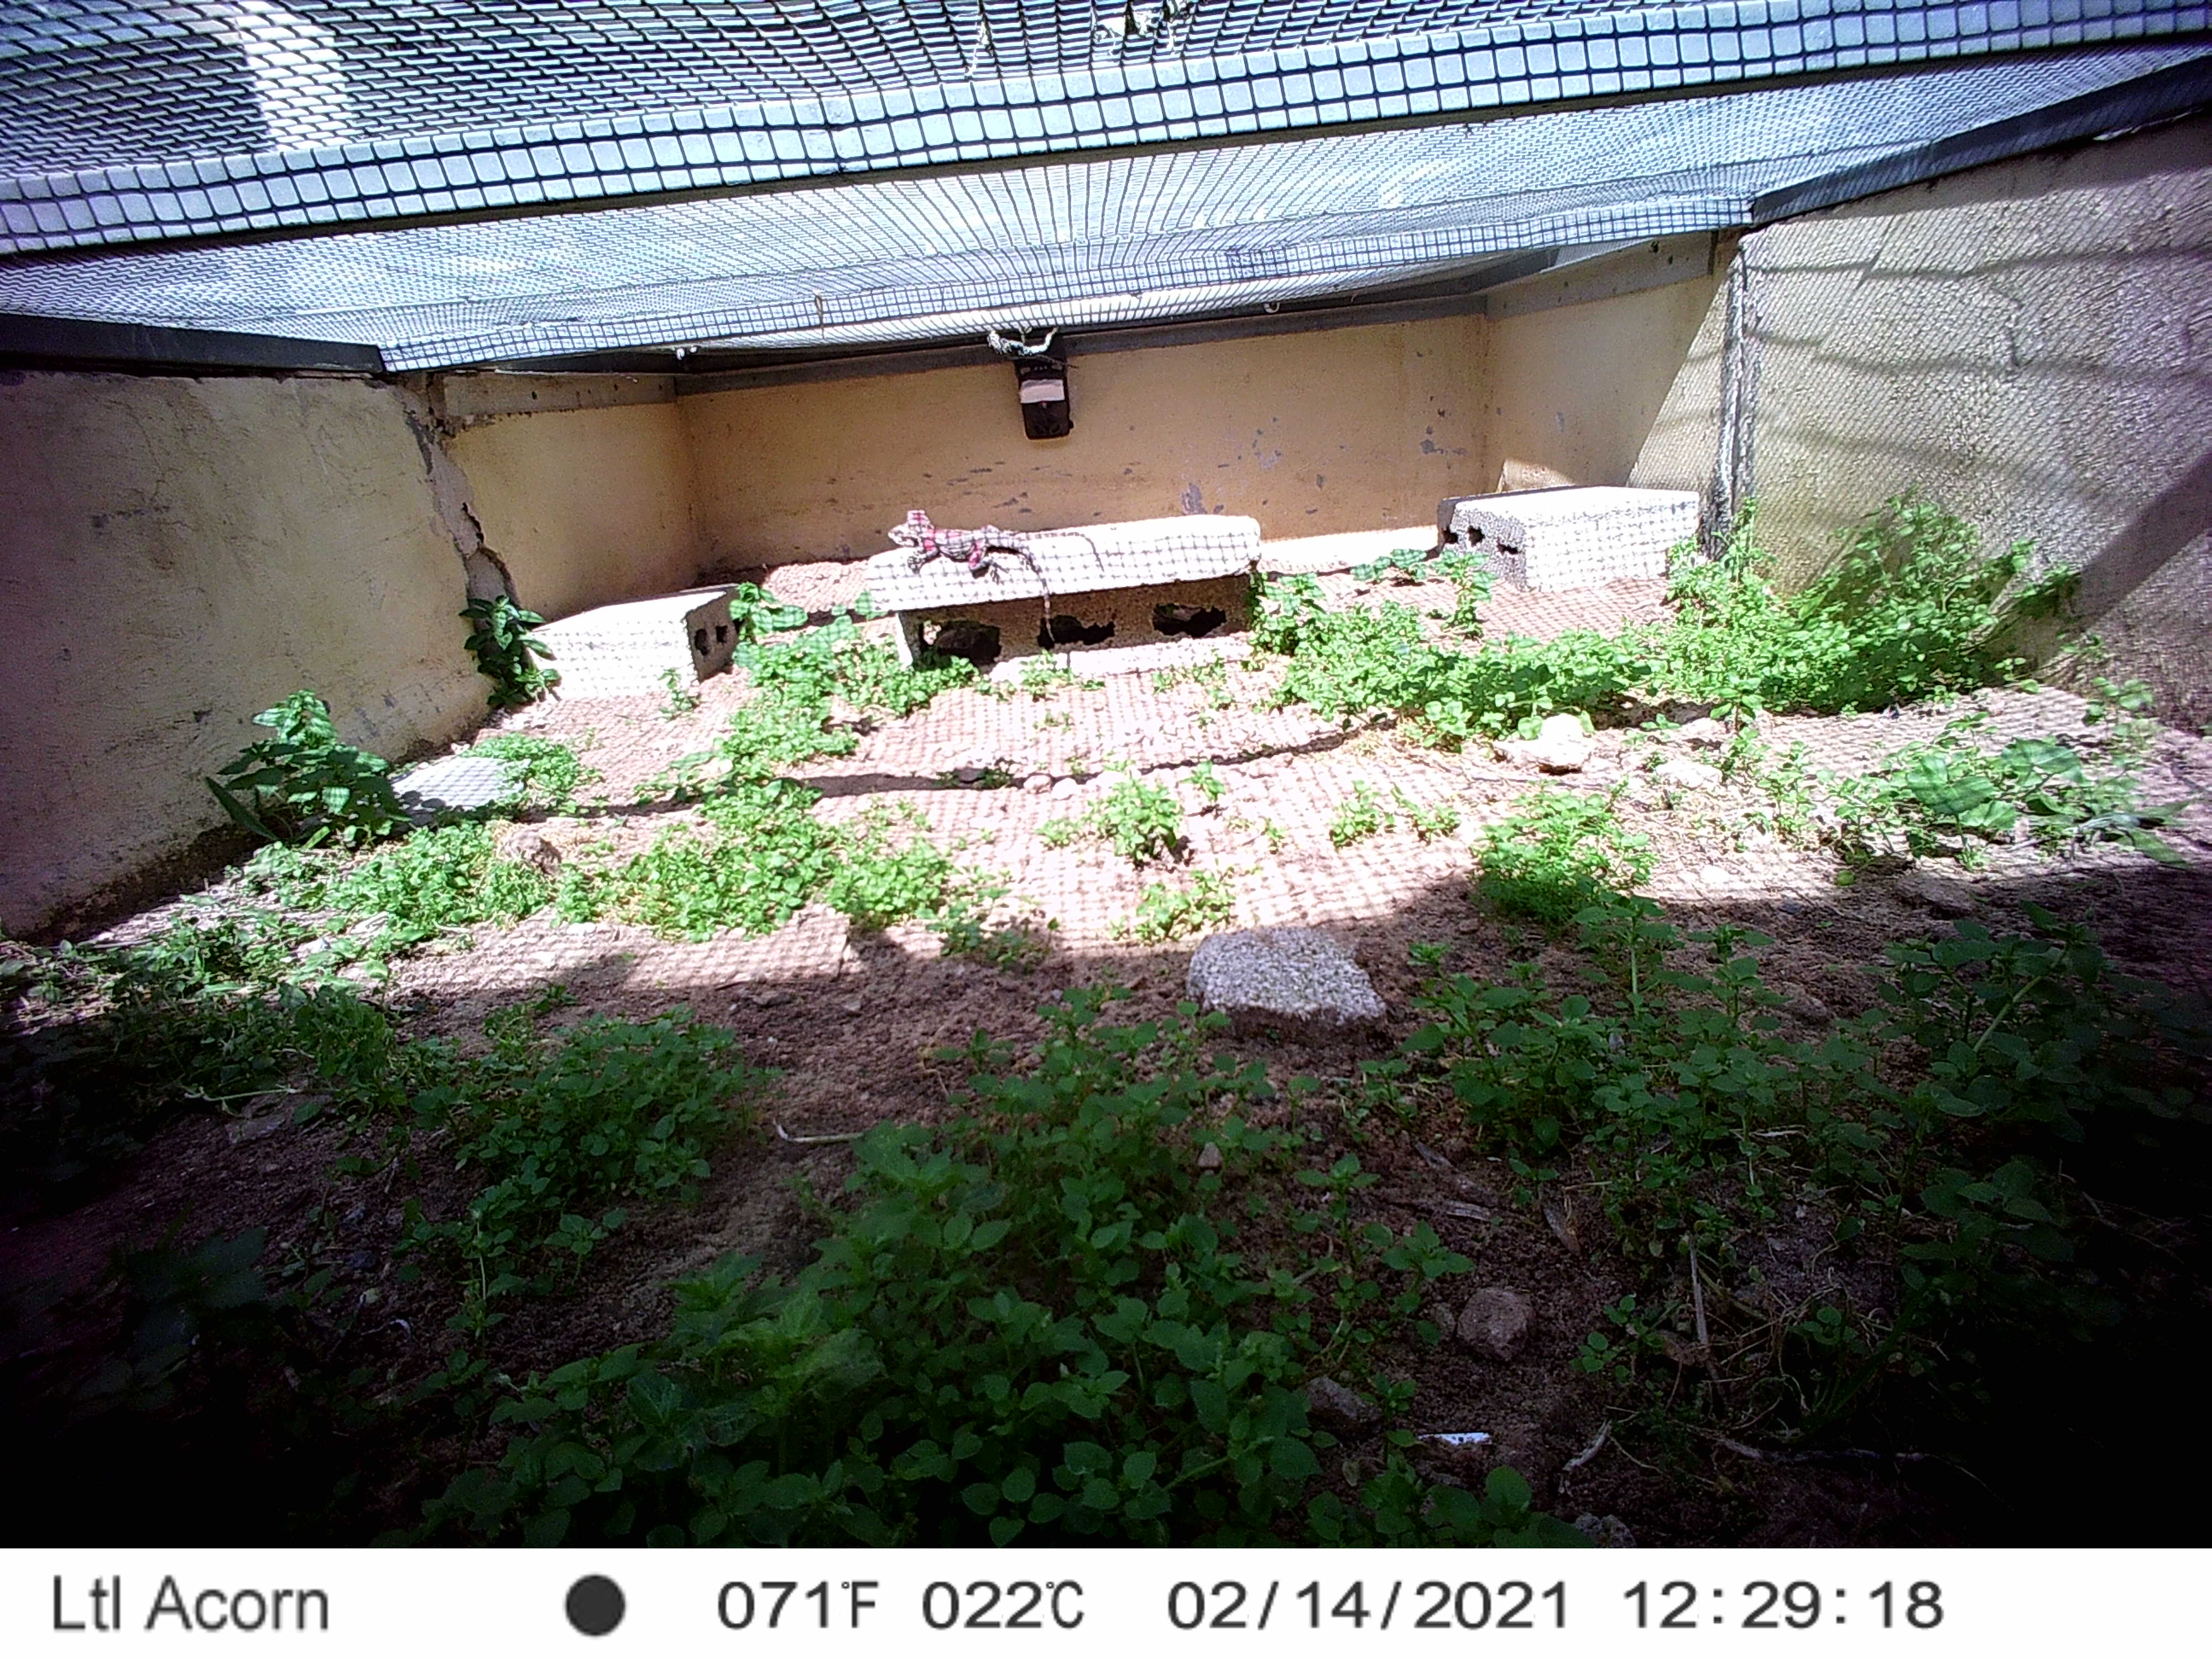lizard: (887, 502, 1099, 634), (981, 324, 1085, 373)
